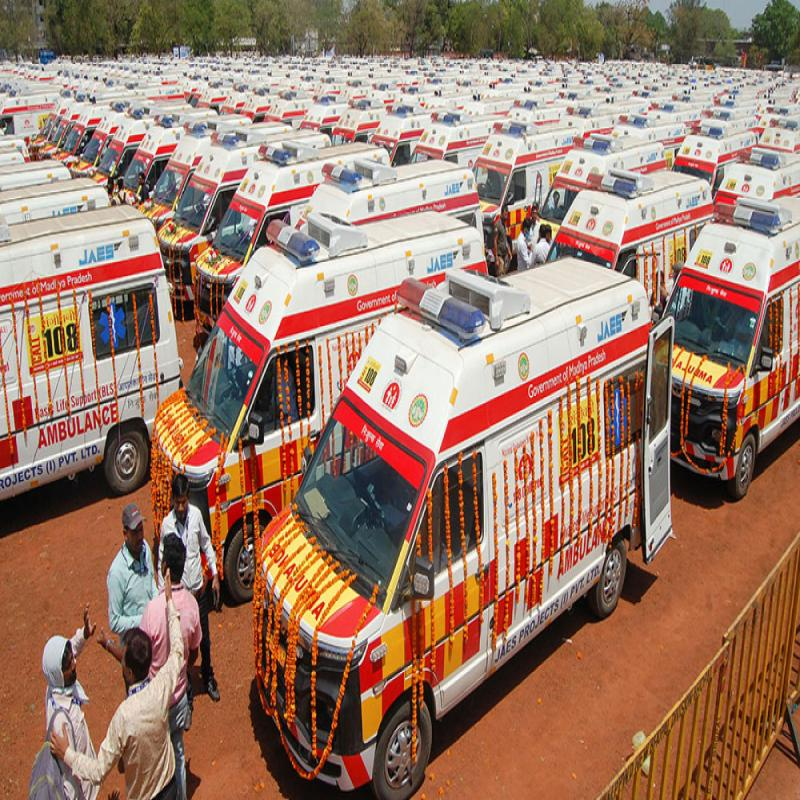AmbulanceSiren: (394, 267, 489, 355), (709, 176, 780, 243), (260, 213, 325, 280), (582, 156, 640, 200), (320, 152, 362, 200), (491, 105, 528, 155), (254, 133, 288, 172), (207, 123, 240, 155)
ambulance: (238, 257, 688, 800), (0, 214, 183, 546), (657, 210, 799, 527)
